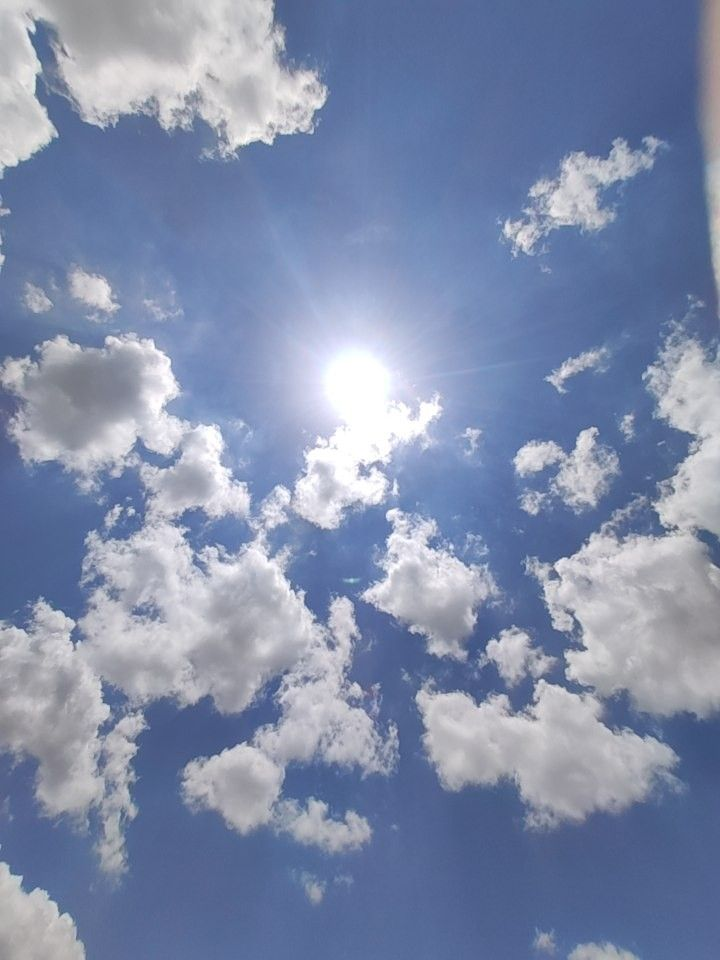sun: (285, 314, 416, 434)
